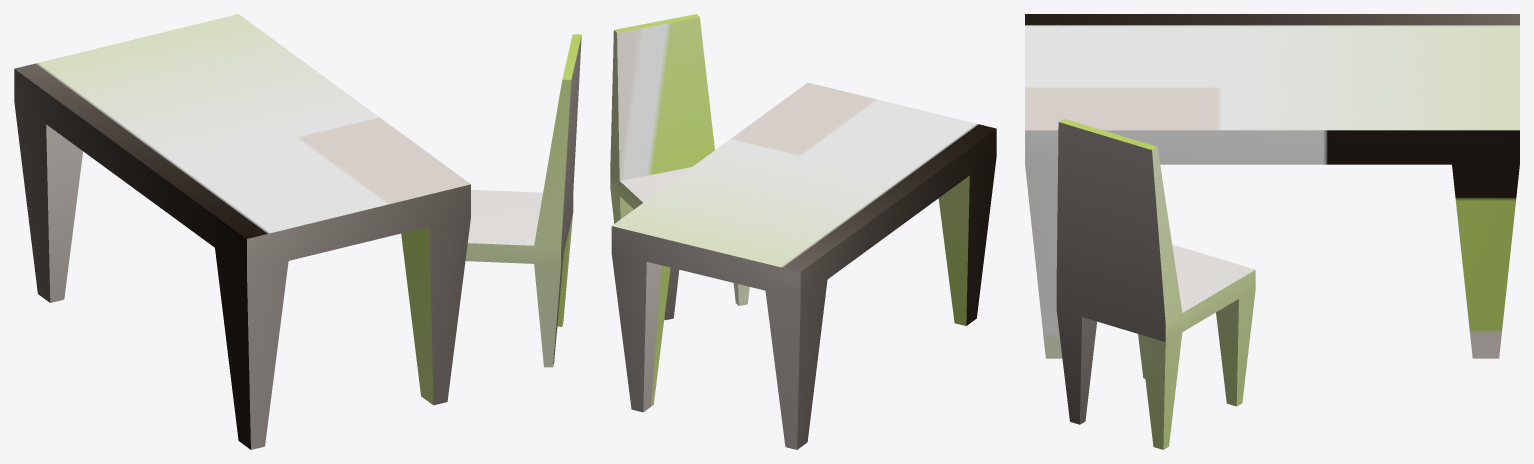
Rendered from DeskBurned.fbx.
3 views of the same model, side by side, from view 1: azimuth 30°, elevation 25°; view 2: azimuth 150°, elevation 25°; view 3: azimuth 270°, elevation 25° (orthographic). The views are drawn at different scales.
Parts seen in each view (by area): view 1: Desk1; view 2: Desk1; view 3: Desk1.
Boxes of the visible parts, <box> form: Desk1: <box>14,14,581,449</box>; Desk1: <box>610,14,996,449</box>; Desk1: <box>1025,14,1519,449</box>.
Bounding box in the file's own units: 14.22 × 9.93 × 14.53.
1 material, 1 textured.
